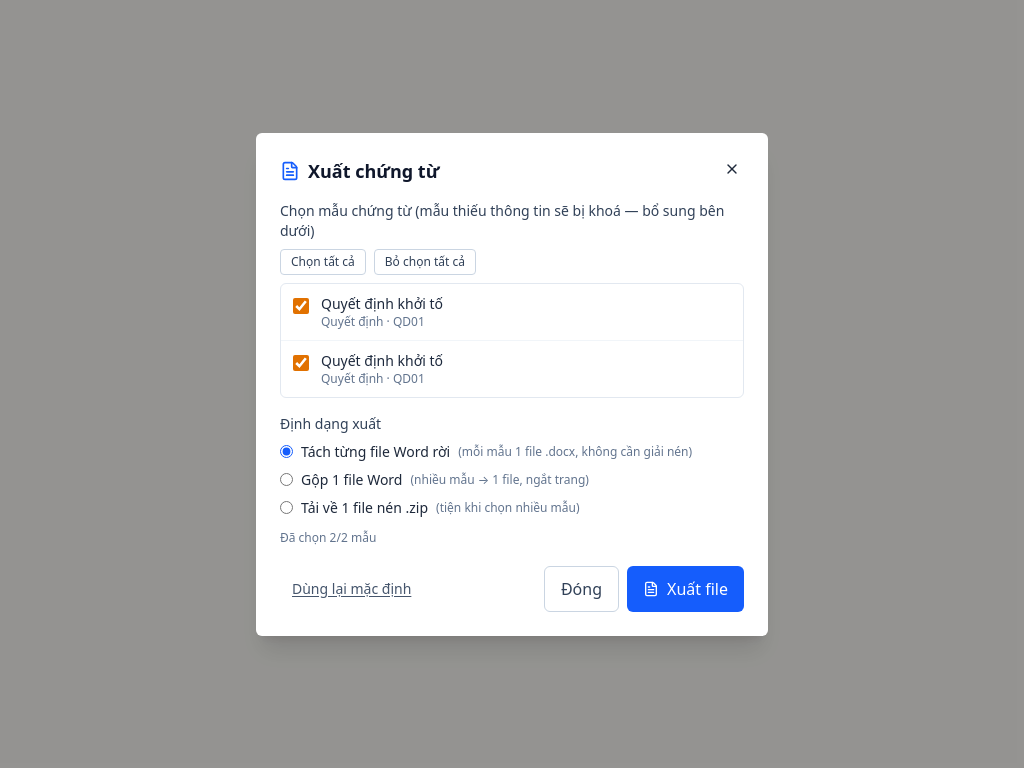
Test: Chọn tất cả / Bỏ chọn tất cả › Bỏ chọn tất cả trả về rỗng và khoá nút Xuất
Expected: the checkbox with test id "dyn-export-checkbox-t1" is checked, [293, 298, 309, 314]
Click the button with test id "dyn-export-clear-all" at (425,262), box [374, 248, 476, 274]
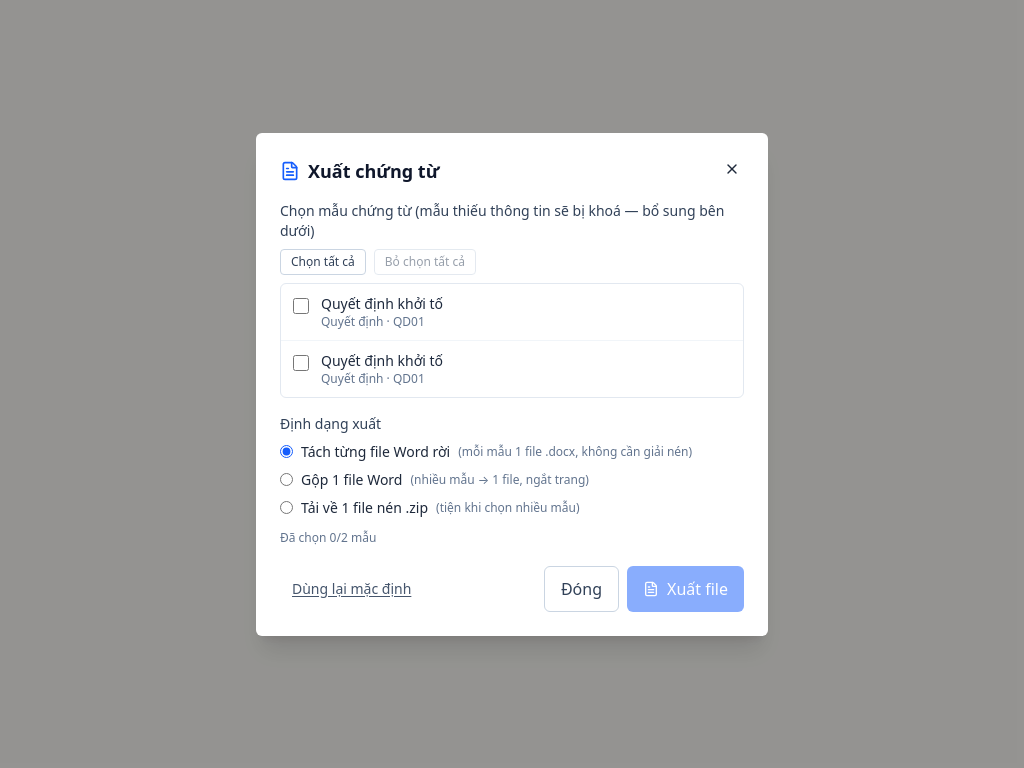
Now the checkbox with test id "dyn-export-checkbox-t1" is not checked, box [293, 298, 309, 314]
Now the button with test id "dyn-export-confirm" is disabled, box [627, 566, 744, 612]
